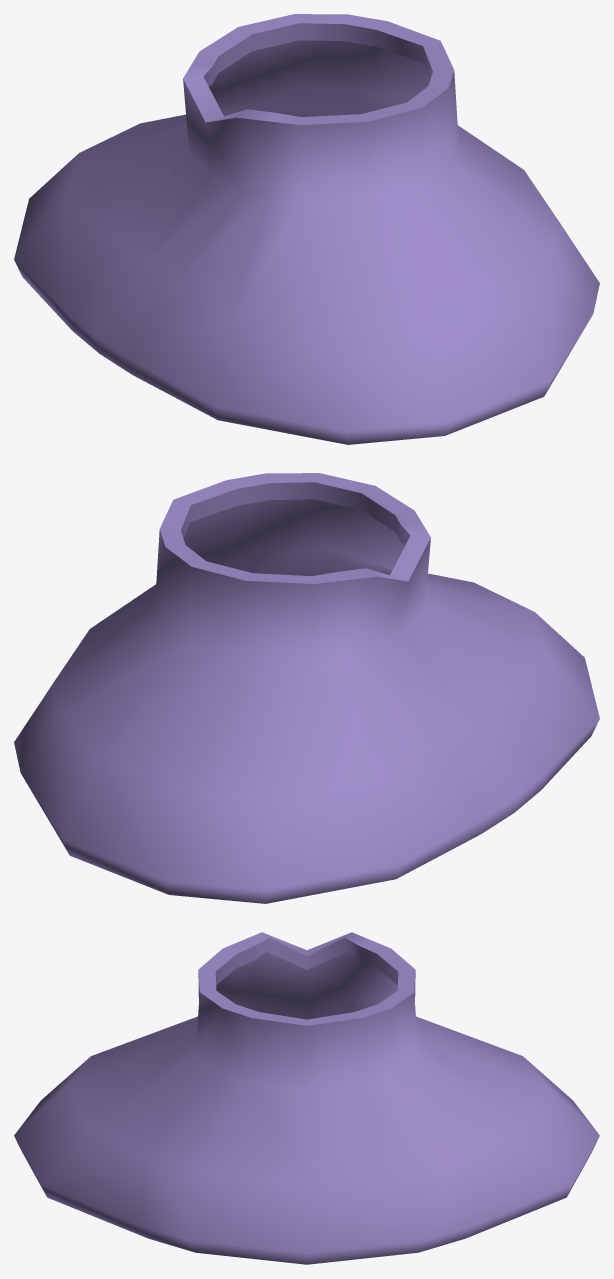
File: D_Body.fbx
3 renders of one model, top to bottom at view 1: azimuth 30°, elevation 25°; view 2: azimuth 150°, elevation 25°; view 3: azimuth 270°, elevation 25°, orthographic. The views are drawn at different scales.
Visible parts, largest first — view 1: D_Body; view 2: D_Body; view 3: D_Body.
Boxes of the visible parts, bbox=[...] form: D_Body: bbox=[14, 14, 599, 444]; D_Body: bbox=[14, 473, 599, 903]; D_Body: bbox=[14, 932, 599, 1264].
Bounding box in the file's own units: 46.98 × 22.23 × 61.16.
